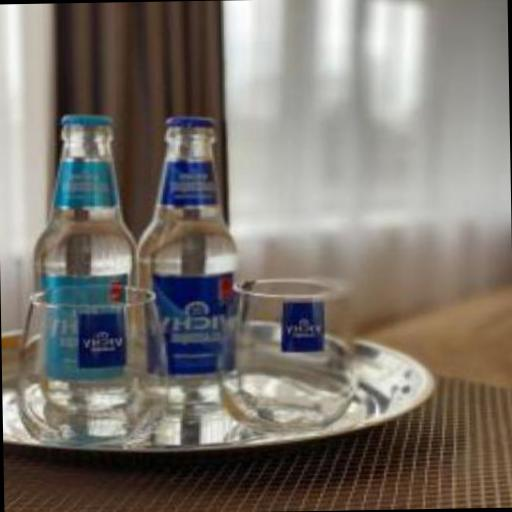Coca: (22, 100, 162, 406), (124, 104, 254, 420)
